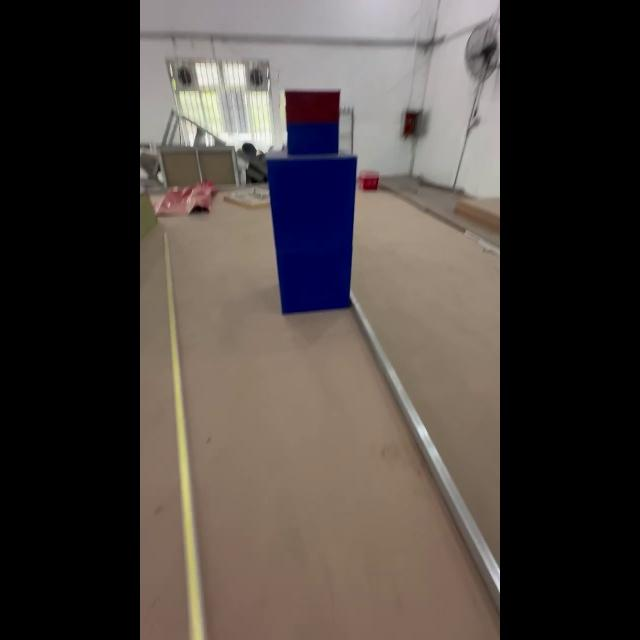earth_block: (265, 154, 357, 240), (272, 241, 356, 315)
sky_block: (283, 89, 343, 155)
